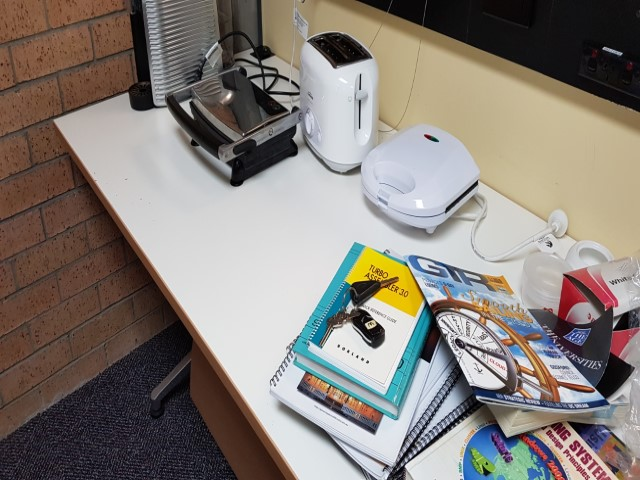key: (350, 275, 400, 305)
